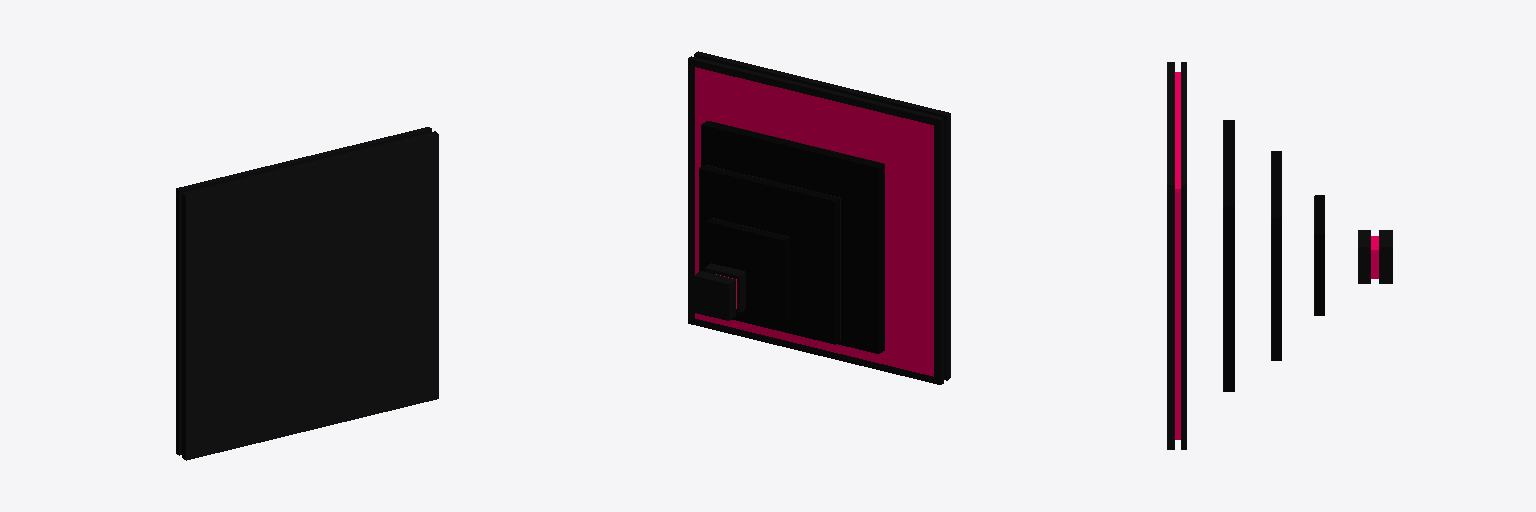
The model's file is table.obj.
The picture shows the model from 3 angles: view 1: azimuth 30°, elevation 25°; view 2: azimuth 150°, elevation 25°; view 3: azimuth 270°, elevation 25°; orthographic projection.
Visible parts, largest first — view 1: Object.5, Object.11, Object.12; view 2: Object.4, Object.13, Object.7, Object.11, Object.9, Object.12, Object.2, Object.1; view 3: Object.13, Object.12, Object.11, Object.4, Object.7, Object.9, Object.2, Object.1.
Boxes of the visible parts, <box> form: Object.5: <box>185,134,438,460</box>; Object.11: <box>176,127,431,455</box>; Object.12: <box>182,131,437,459</box>; Object.4: <box>695,67,933,376</box>; Object.13: <box>701,121,884,353</box>; Object.7: <box>699,165,839,344</box>; Object.11: <box>688,56,943,384</box>; Object.9: <box>706,218,789,322</box>; Object.12: <box>694,52,949,380</box>; Object.2: <box>694,271,735,320</box>; Object.1: <box>705,264,745,312</box>; Object.13: <box>1224,120,1234,391</box>; Object.12: <box>1168,62,1174,449</box>; Object.11: <box>1181,62,1186,449</box>; Object.4: <box>1175,72,1180,439</box>; Object.7: <box>1272,151,1281,360</box>; Object.9: <box>1315,195,1324,315</box>; Object.2: <box>1379,230,1392,283</box>; Object.1: <box>1359,230,1370,283</box>.
Bounding box in the file's own units: 31.87 × 31.89 × 24.59.